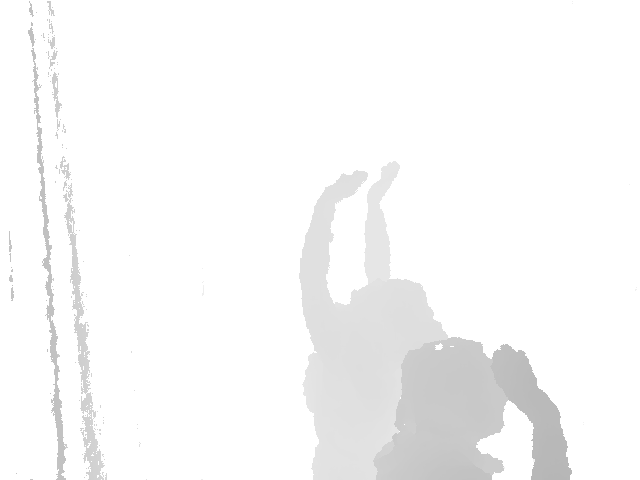hand: (363, 162, 404, 211), (324, 163, 370, 206)
head: (395, 334, 504, 447), (353, 280, 432, 350)
person: (297, 161, 436, 480), (377, 333, 573, 480)
